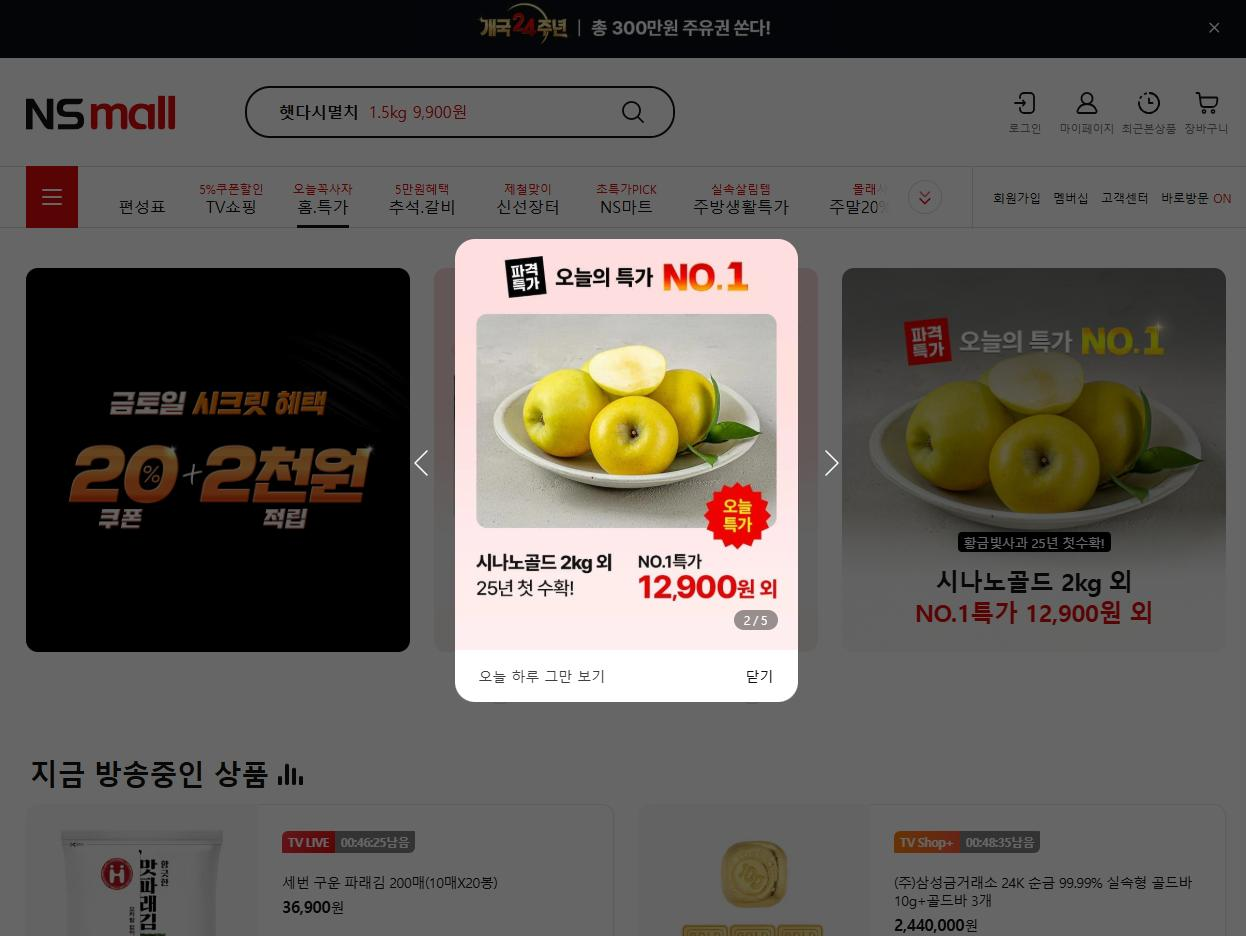button: (685, 173, 795, 223), (378, 172, 466, 225), (476, 660, 615, 691), (190, 172, 276, 221), (484, 172, 567, 221), (1121, 77, 1183, 140), (286, 173, 363, 220), (1058, 80, 1117, 139), (584, 181, 668, 221), (1001, 81, 1057, 140), (1185, 77, 1231, 139), (1161, 181, 1241, 213), (102, 190, 176, 221), (32, 171, 72, 220), (1102, 182, 1158, 211), (1050, 182, 1102, 211), (411, 445, 437, 484), (910, 182, 945, 210), (742, 661, 777, 688), (996, 188, 1040, 209), (819, 446, 845, 481)
input_field: (239, 83, 676, 140)
popup: (454, 238, 800, 704)
